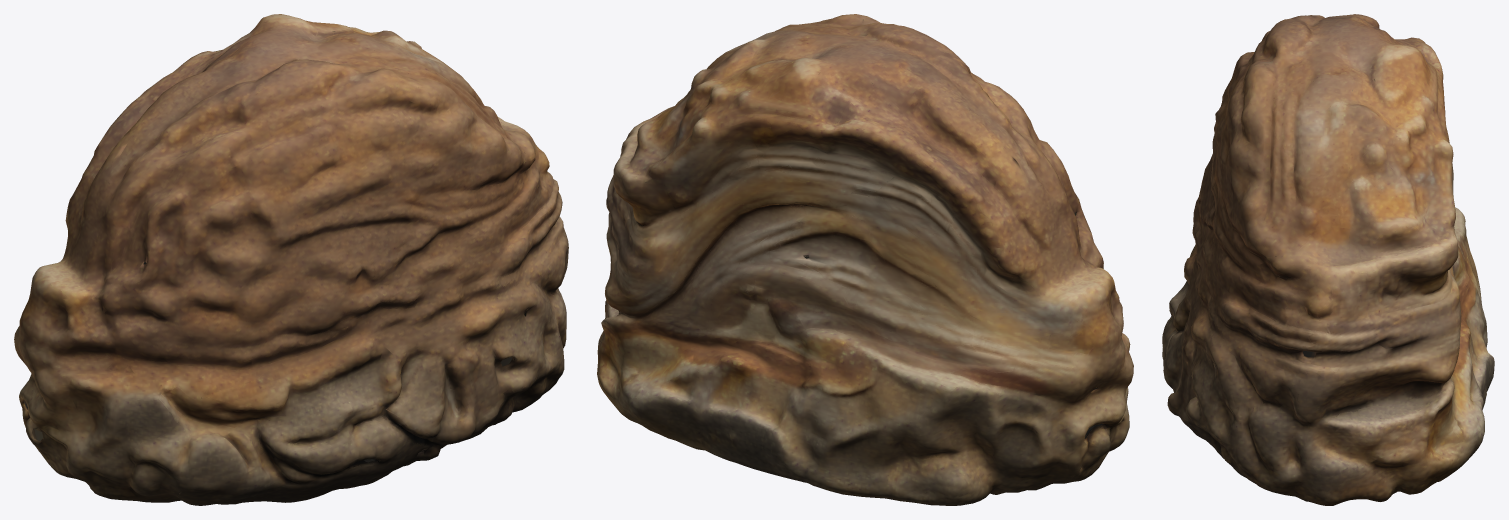
3 renders of one model, left to right at view 1: azimuth 30°, elevation 25°; view 2: azimuth 150°, elevation 25°; view 3: azimuth 270°, elevation 25°, orthographic. The views are drawn at different scales.
Parts seen in each view (by area): view 1: world; view 2: world; view 3: world.
Boxes of the visible parts, x1=… form: world: x1=14, y1=14, x2=568, y2=505; world: x1=597, y1=14, x2=1133, y2=505; world: x1=1162, y1=14, x2=1494, y2=505.
Bounding box in the file's own units: 0.65 × 0.4836 × 0.3771.
Materials: 1 (1 with a texture image).
